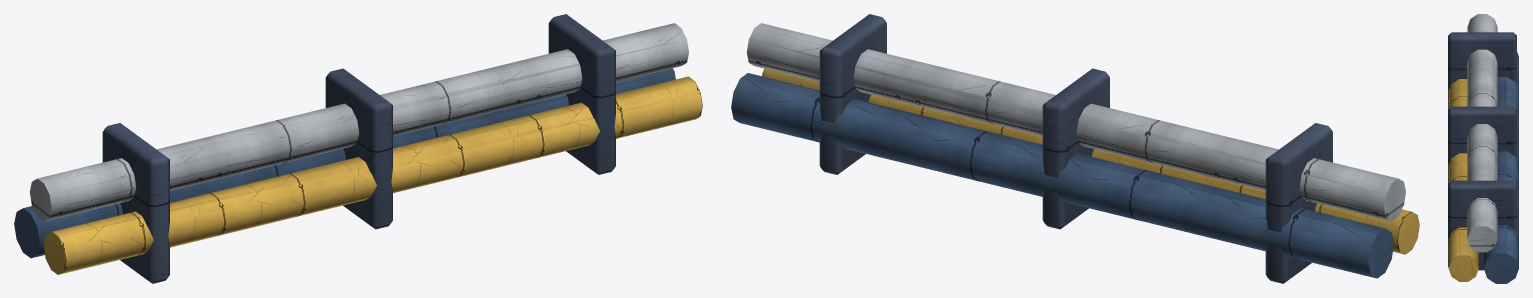
Rendered from pipe_bundle.glb.
3 views of the same model, side by side, from view 1: azimuth 30°, elevation 25°; view 2: azimuth 150°, elevation 25°; view 3: azimuth 270°, elevation 25° (orthographic). The views are drawn at different scales.
Parts seen in each view (by area): view 1: pipe_bundle_amber_accent, pipe_bundle_titanium, pipe_bundle_graphite_navy, pipe_bundle_navy_frame; view 2: pipe_bundle_navy_frame, pipe_bundle_titanium, pipe_bundle_graphite_navy, pipe_bundle_amber_accent; view 3: pipe_bundle_graphite_navy, pipe_bundle_titanium, pipe_bundle_navy_frame, pipe_bundle_amber_accent.
Part boxes in pixels (x1=…): pipe_bundle_amber_accent: x1=43, y1=76, x2=702, y2=274; pipe_bundle_titanium: x1=29, y1=23, x2=688, y2=221; pipe_bundle_graphite_navy: x1=102, y1=14, x2=615, y2=283; pipe_bundle_navy_frame: x1=14, y1=68, x2=675, y2=258; pipe_bundle_navy_frame: x1=731, y1=73, x2=1393, y2=278; pipe_bundle_titanium: x1=746, y1=23, x2=1405, y2=221; pipe_bundle_graphite_navy: x1=819, y1=14, x2=1332, y2=283; pipe_bundle_amber_accent: x1=762, y1=68, x2=1419, y2=254; pipe_bundle_graphite_navy: x1=1448, y1=32, x2=1516, y2=270; pipe_bundle_titanium: x1=1467, y1=14, x2=1497, y2=252; pipe_bundle_navy_frame: x1=1483, y1=52, x2=1518, y2=283; pipe_bundle_amber_accent: x1=1448, y1=79, x2=1478, y2=281.
Size of the model in its own units: 4 by 0.75 by 0.565.
4 materials, 4 textured.
